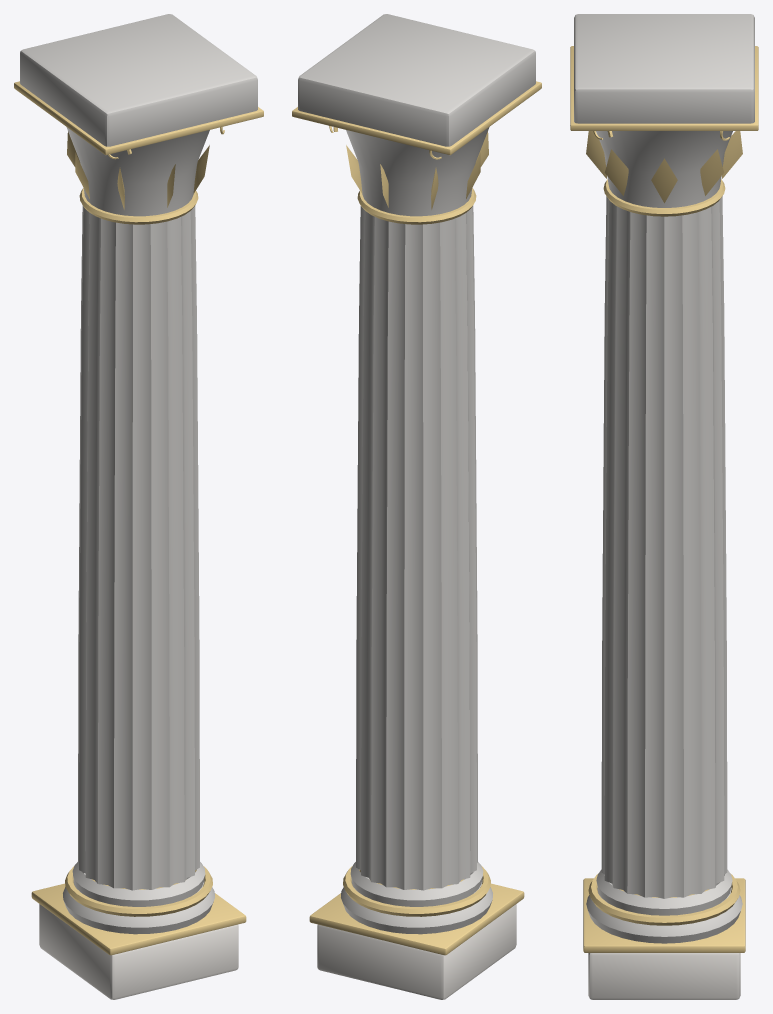
The model's file is pillar-classic.glb.
3 views of the same model, side by side, from view 1: azimuth 30°, elevation 25°; view 2: azimuth 150°, elevation 25°; view 3: azimuth 270°, elevation 25° (orthographic). The views are drawn at different scales.
Parts seen in each view (by area): view 1: pillar-classic; view 2: pillar-classic; view 3: pillar-classic.
Boxes of the visible parts, bbox=[...] form: pillar-classic: bbox=[14, 14, 263, 999]; pillar-classic: bbox=[292, 14, 541, 999]; pillar-classic: bbox=[570, 14, 758, 999].
Size of the model in its own units: 1.3 by 7 by 1.3.
